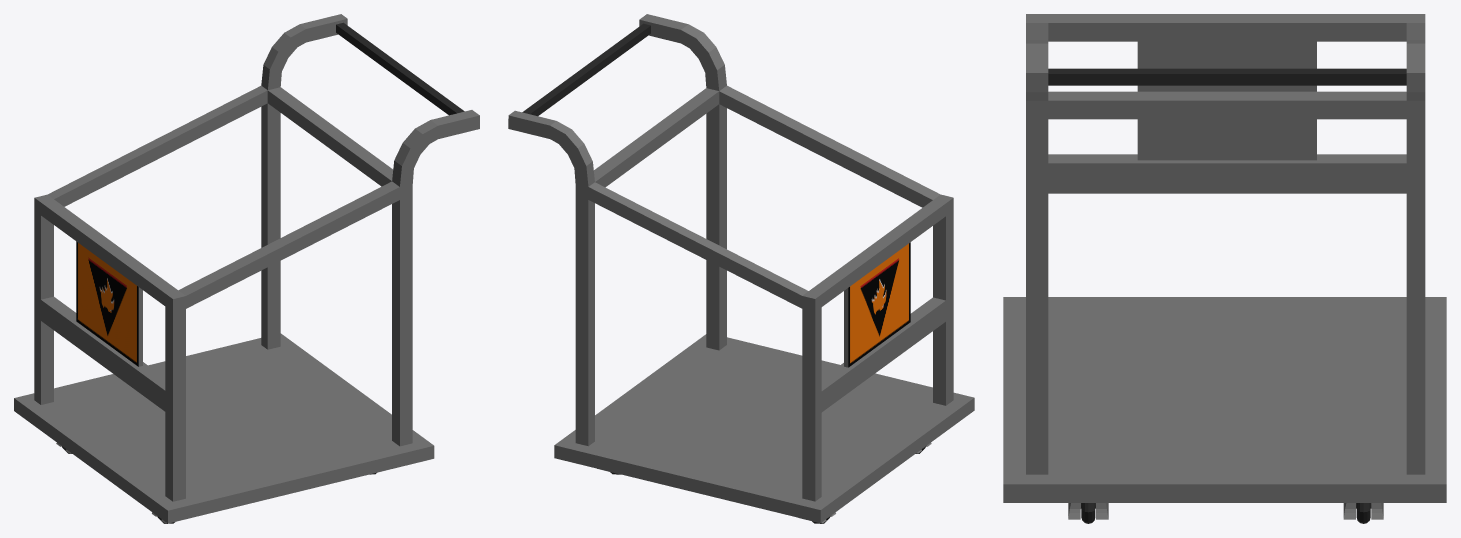
File: carro bombonas.fbx
3 renders of one model, left to right at view 1: azimuth 30°, elevation 25°; view 2: azimuth 150°, elevation 25°; view 3: azimuth 270°, elevation 25°, orthographic. The views are drawn at different scales.
Visible parts, largest first — view 1: carro; view 2: carro; view 3: carro, rueda04, rueda01.
Part boxes in pixels (<box>): carro: <box>14,14,479,523</box>; carro: <box>508,14,974,522</box>; carro: <box>1003,14,1446,502</box>; rueda04: <box>1343,503,1383,523</box>; rueda01: <box>1068,503,1108,523</box>.
Bounding box in the file's own units: 839 × 887 × 699.
3 materials, 1 textured.
